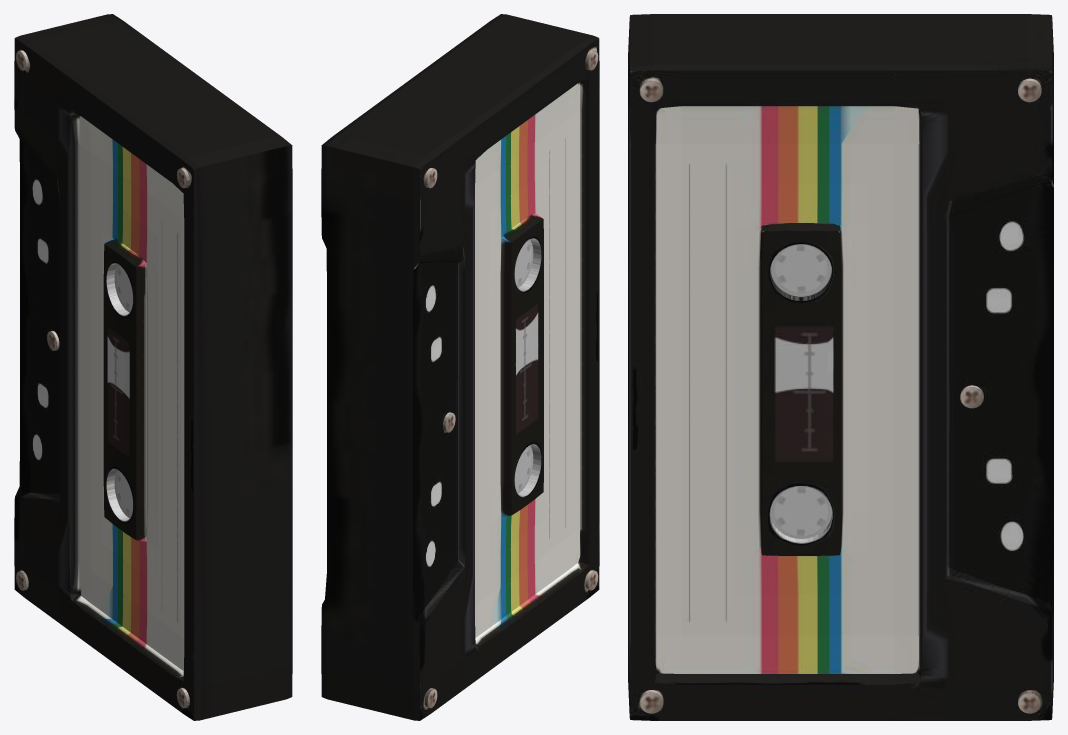
File: casette.fbx
The picture shows the model from 3 angles, left to right: view 1: azimuth 30°, elevation 25°; view 2: azimuth 150°, elevation 25°; view 3: azimuth 270°, elevation 25°; orthographic projection. The views are drawn at different scales.
Parts seen in each view (by area): view 1: Cylinder.010; view 2: Cylinder.010; view 3: Cylinder.010.
Boxes of the visible parts, x1,y1,x2,y2 form: Cylinder.010: (14,14,292,720); Cylinder.010: (321,14,599,720); Cylinder.010: (628,14,1053,720).
Bounding box in the file's own units: 85.58 × 433 × 255.
